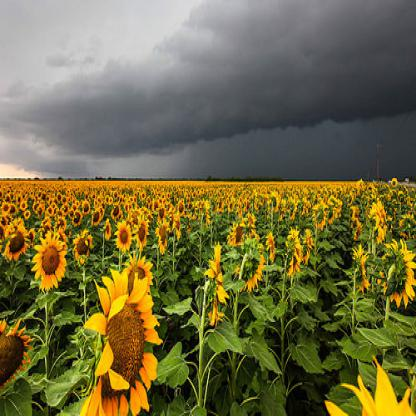SUN FLOWER: (4, 138, 411, 410)
